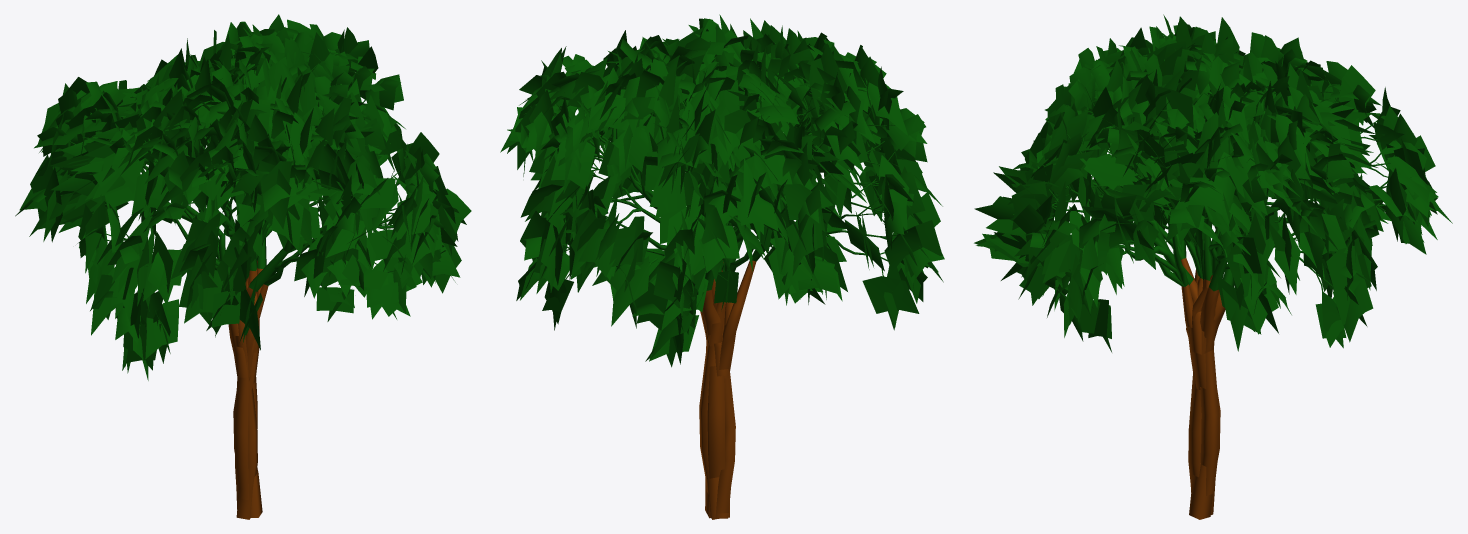
The model's file is tree.glb.
3 views of the same model, side by side, from view 1: azimuth 30°, elevation 25°; view 2: azimuth 150°, elevation 25°; view 3: azimuth 270°, elevation 25° (orthographic). The views are drawn at different scales.
Parts seen in each view (by area): view 1: Mossy_Tr.002; view 2: Mossy_Tr.002; view 3: Mossy_Tr.002.
Part boxes in pixels (x1,y1,x2,y2): Mossy_Tr.002: (15,14,471,519); Mossy_Tr.002: (500,14,944,519); Mossy_Tr.002: (974,14,1452,519).
Size of the model in its own units: 2.57 by 3.3 by 3.03.
